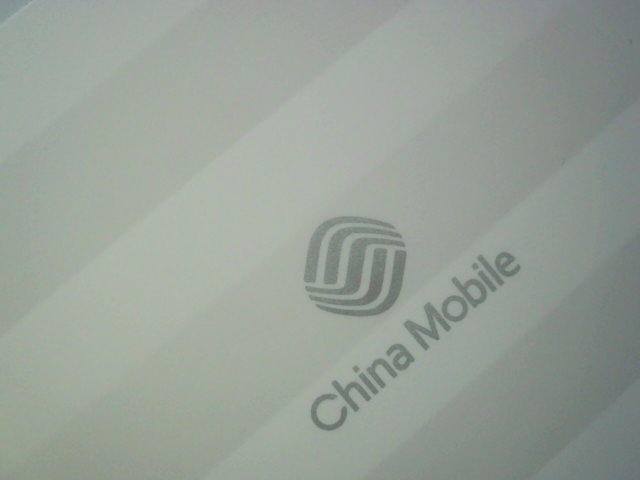AA_ChinaMobile: (261, 191, 534, 436)
